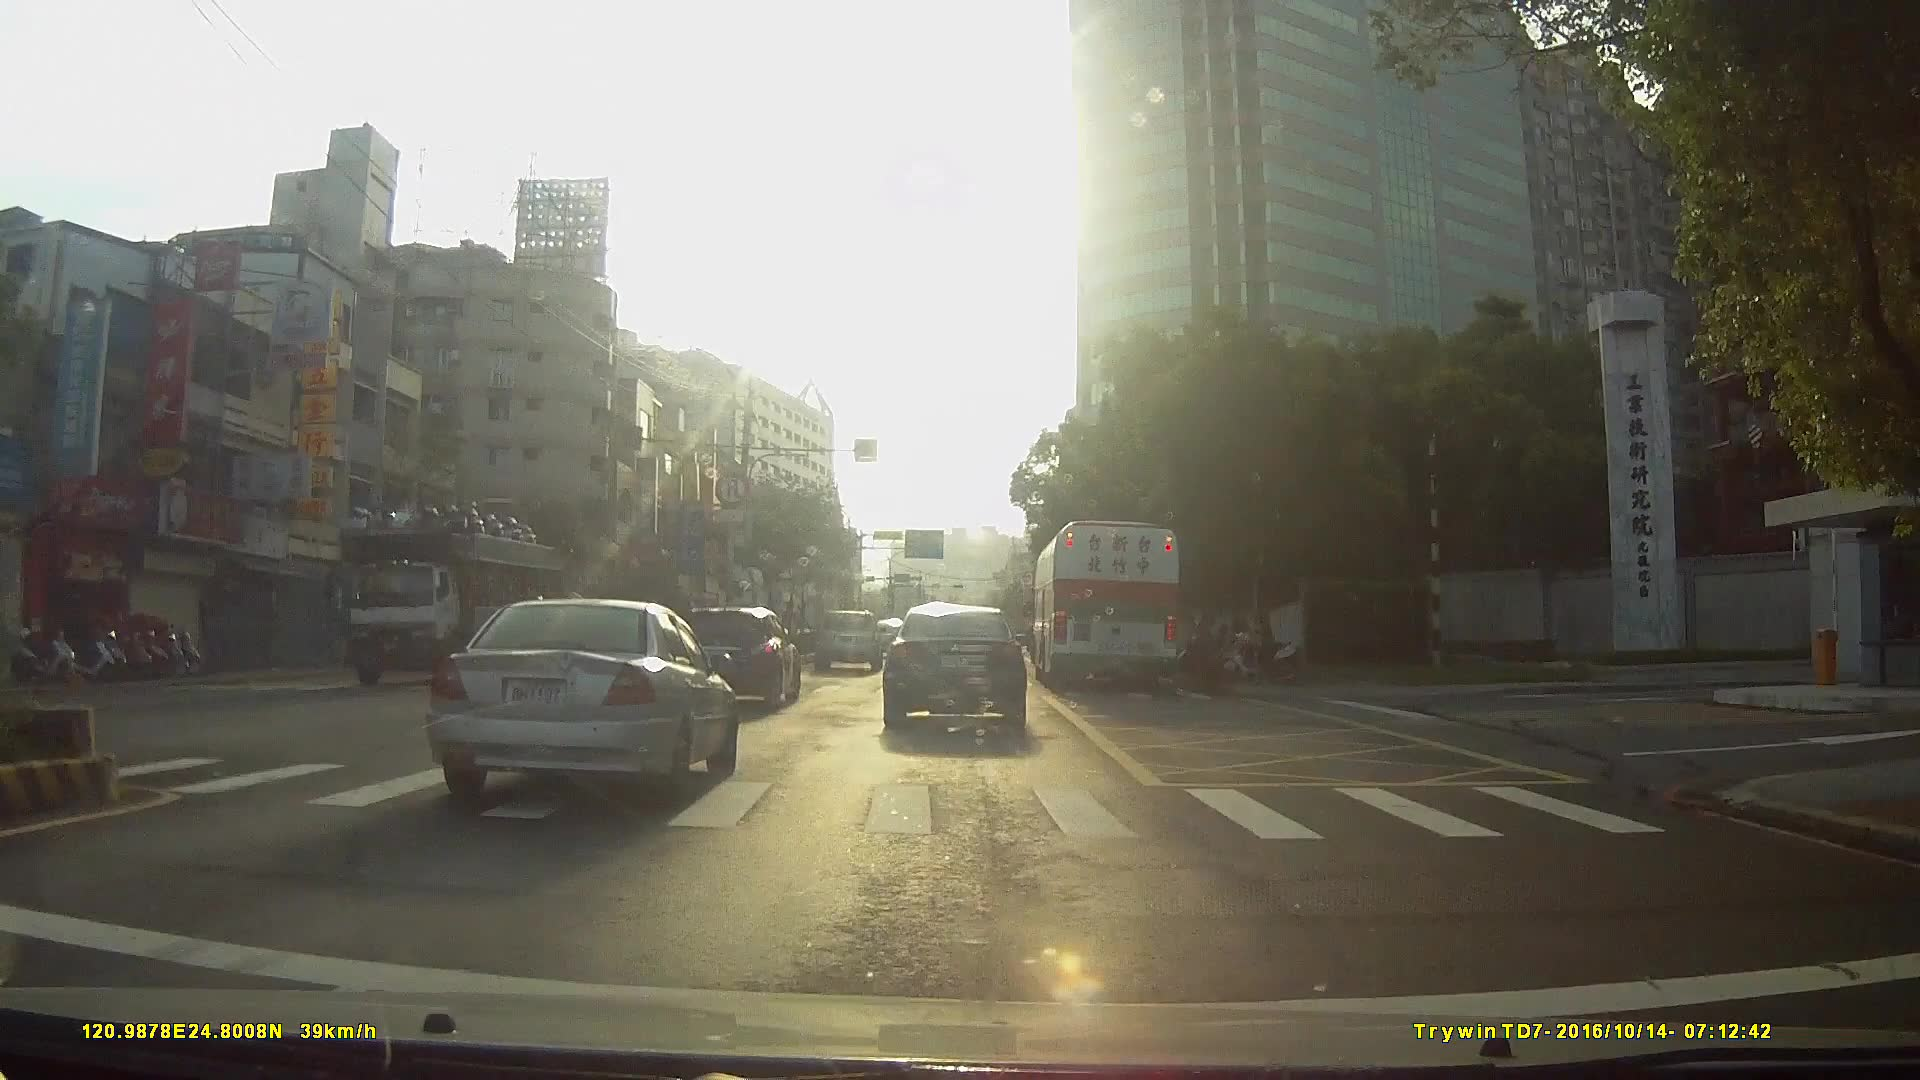vehicle: (415, 595, 735, 806), (334, 483, 574, 700), (1033, 514, 1183, 694), (878, 599, 1026, 731), (674, 607, 800, 709), (814, 608, 884, 673)
